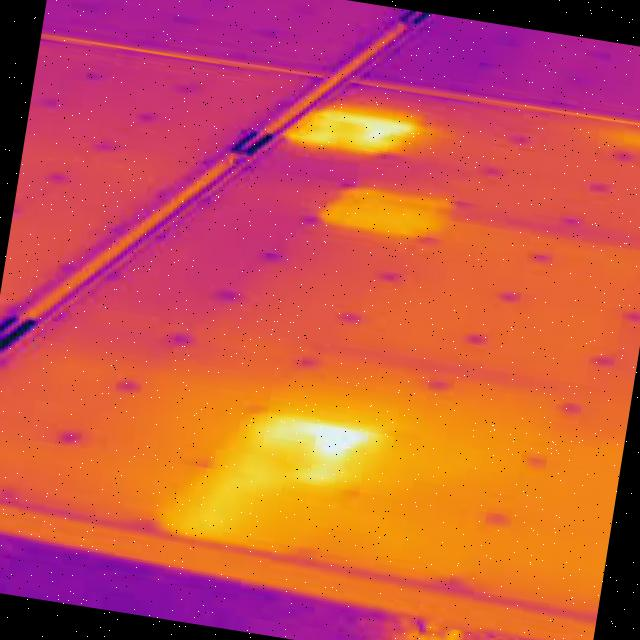Hotspot: (144, 378, 395, 573), (310, 167, 479, 257), (274, 95, 438, 177), (587, 120, 640, 158)
